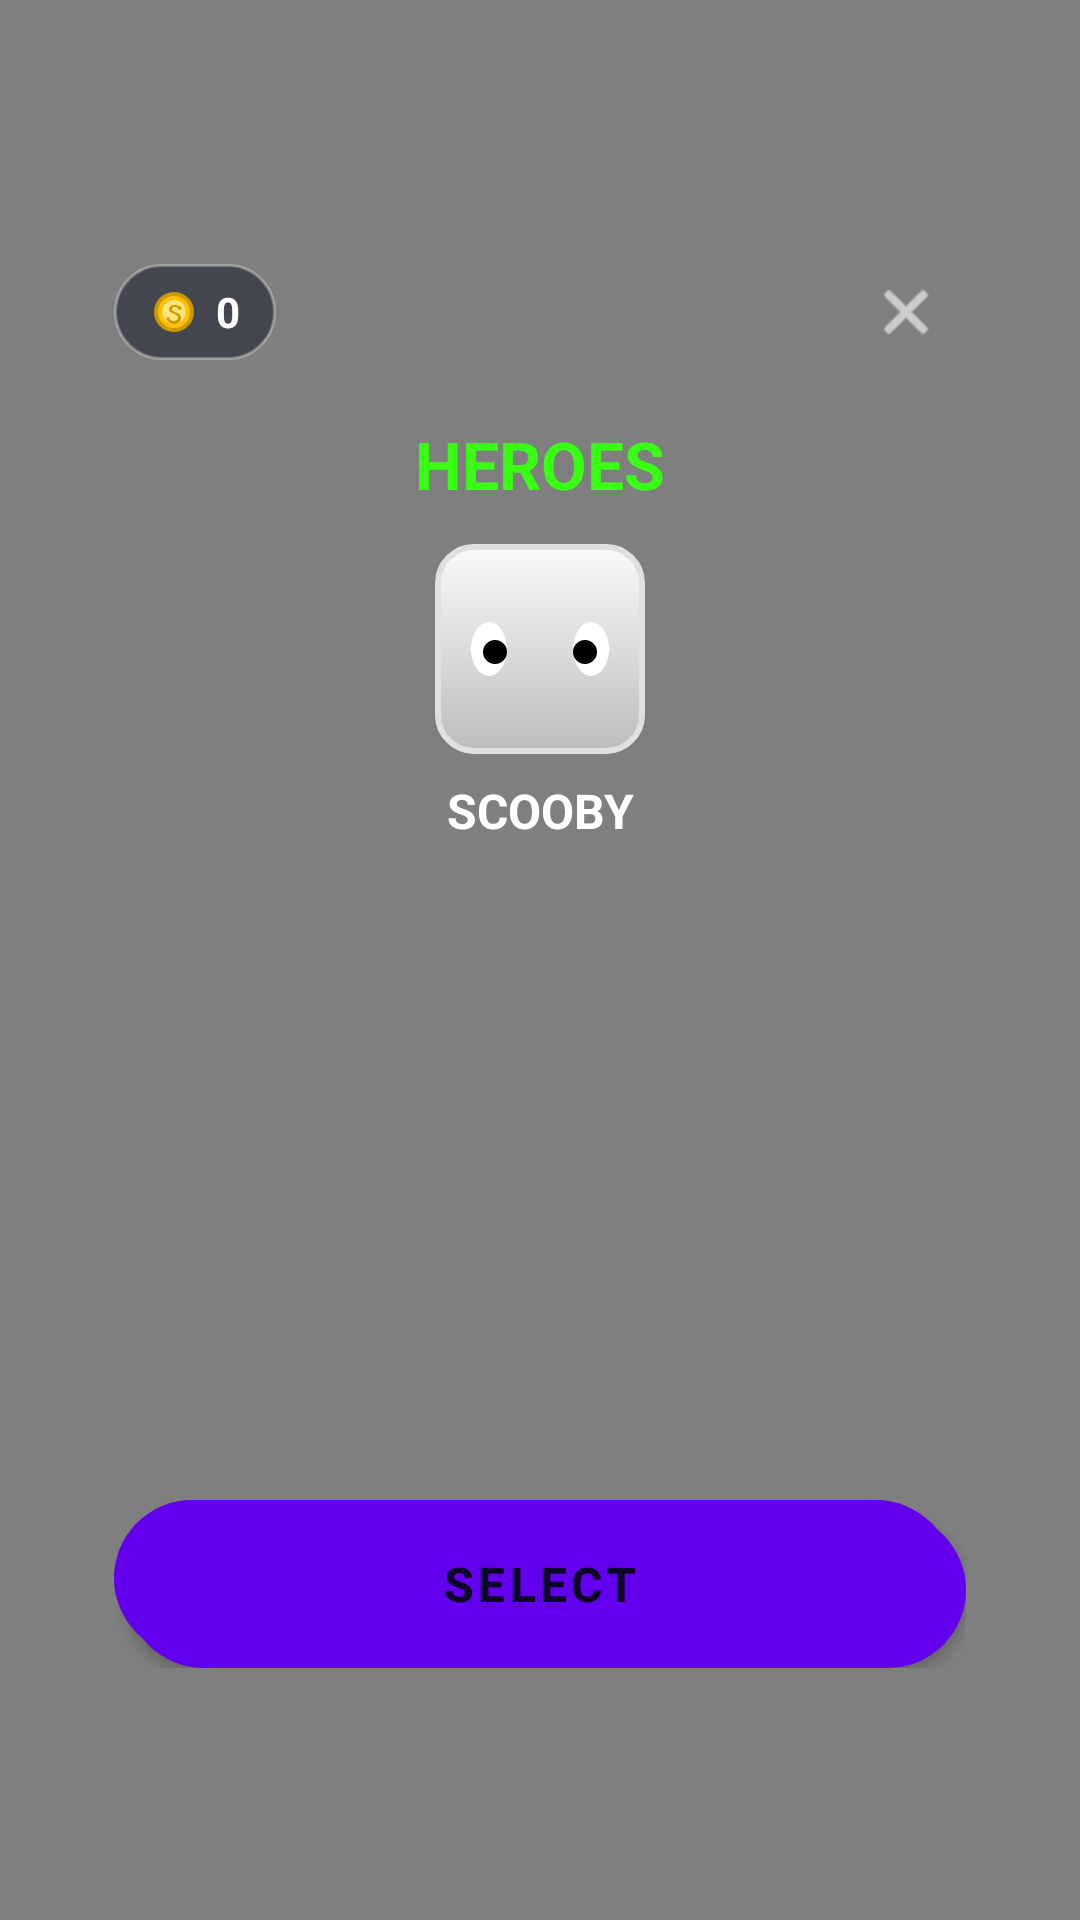

Icon bounding boxes for this 1080px x 1920px phone screenshot, format (x1, y1, x2, y2):
close clear cancel: (884, 290, 928, 334)
coin: (154, 292, 194, 332)
